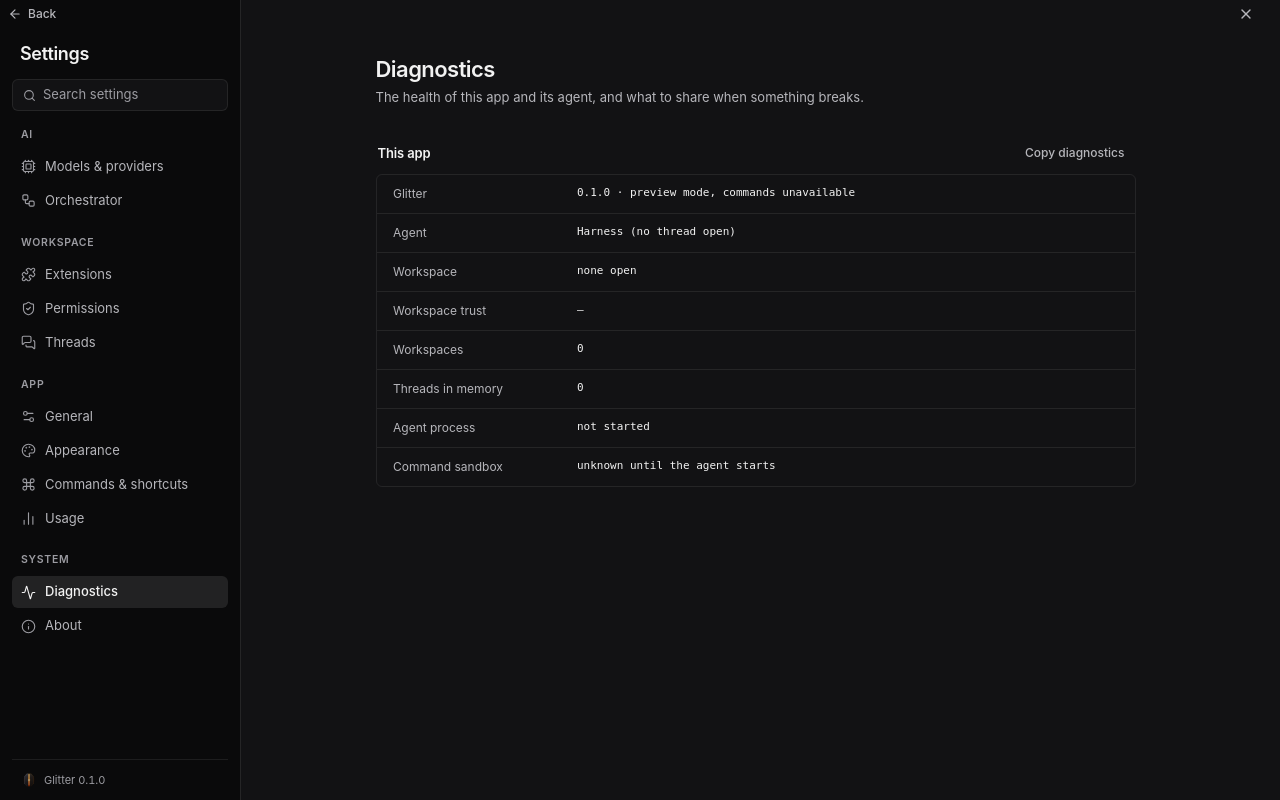
Test: settings navigation › copies app version, platform, and recent redacted log lines with diagnostics
Click the button "Copy diagnostics" at (1075, 153), box [1016, 140, 1134, 166]
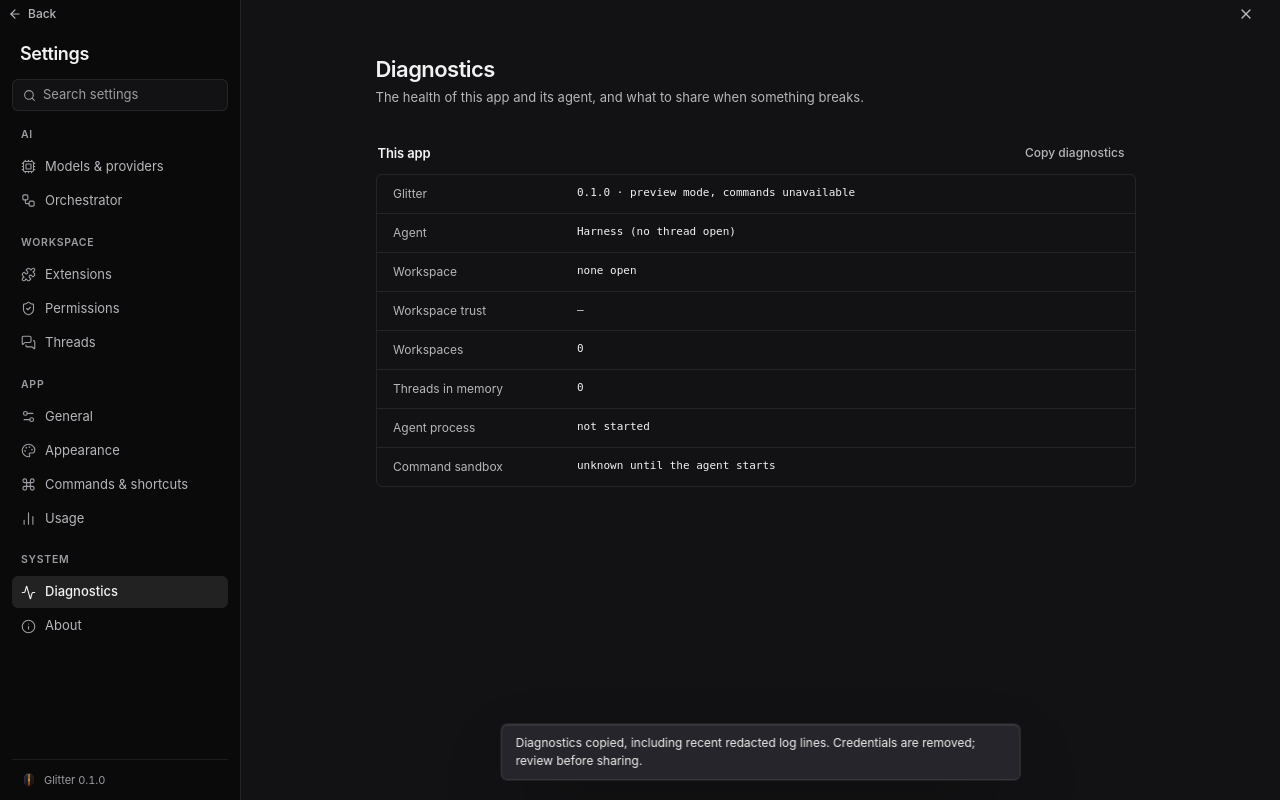
Result: the text "Diagnostics copied, including recent redacted log lines. Credentials are removed; review before sharing." is shown at [516, 735, 976, 768]
